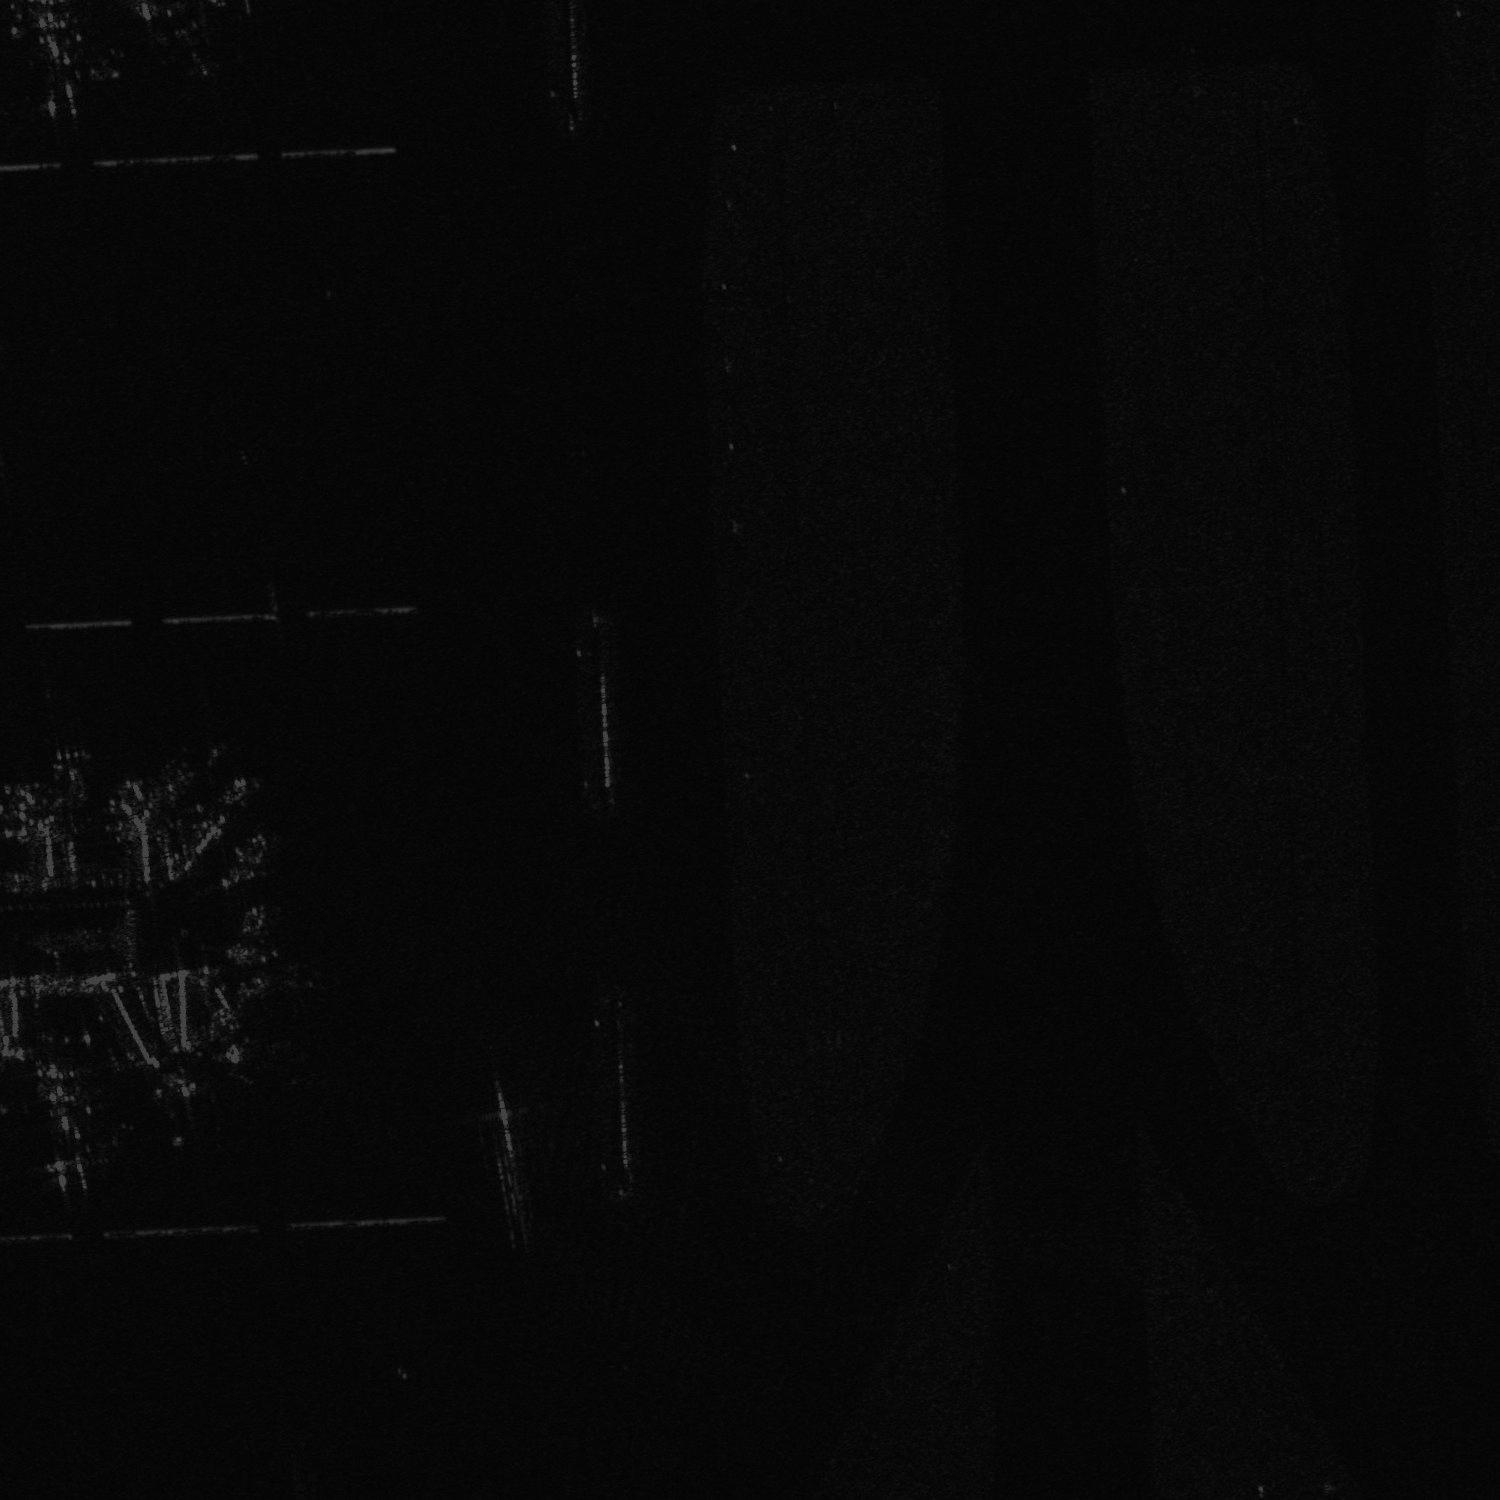A320/321: (14, 5, 111, 115), (41, 743, 98, 795)
Boeing737: (192, 1036, 280, 1085)
